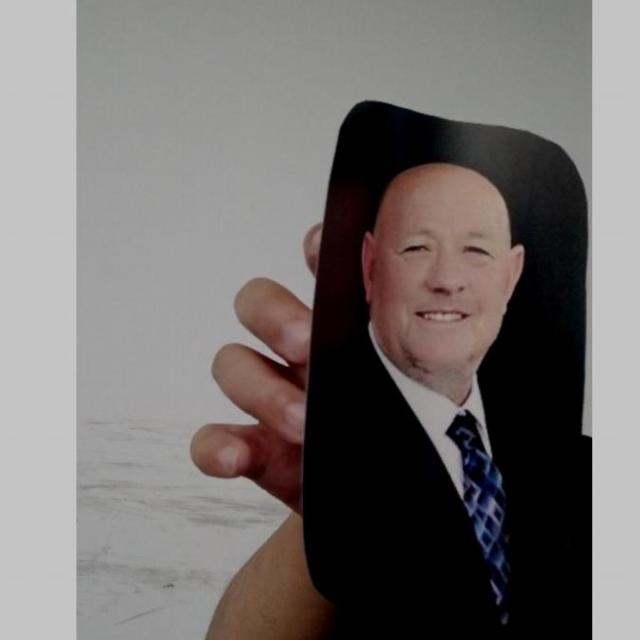photo: (285, 97, 591, 637)
